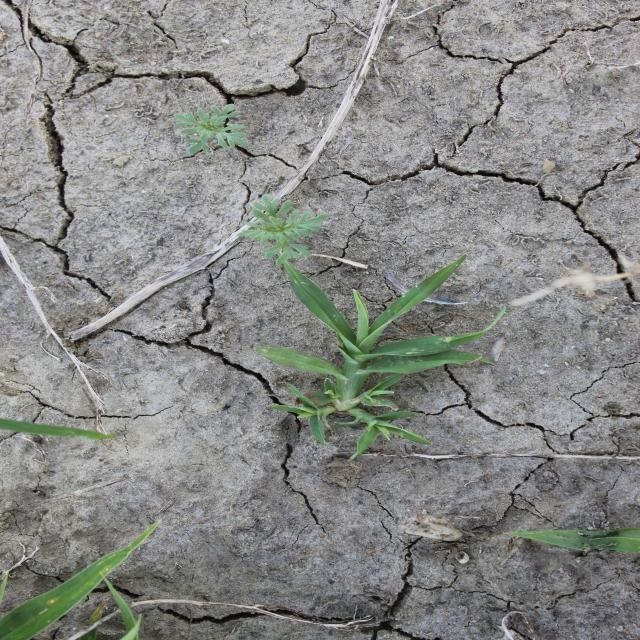Goosegrass: (253, 250, 508, 463)
Ragweed: (235, 192, 332, 268), (171, 102, 250, 156)
